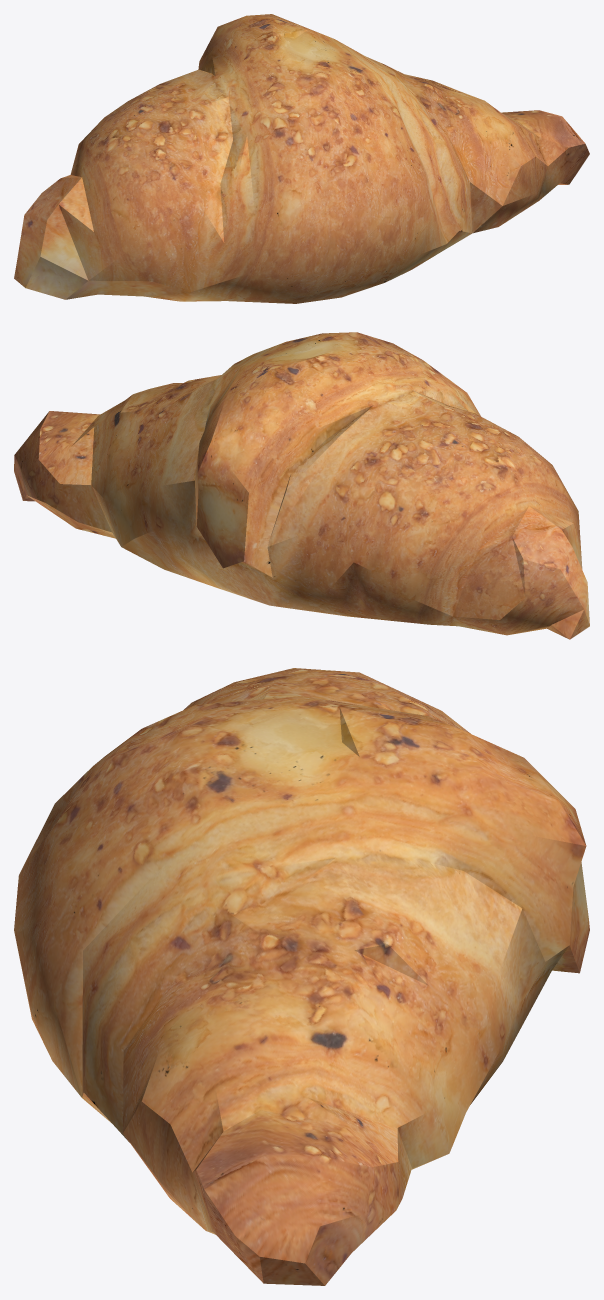
The model's file is 3DPastry001_LQ-2K-JPG.obj.
3 renders of one model, top to bottom at view 1: azimuth 30°, elevation 25°; view 2: azimuth 150°, elevation 25°; view 3: azimuth 270°, elevation 25°, orthographic. The views are drawn at different scales.
Visible parts, largest first — view 1: 3DPastry001_LQ-2K-JPG; view 2: 3DPastry001_LQ-2K-JPG; view 3: 3DPastry001_LQ-2K-JPG.
Boxes of the visible parts, box(x1,y1,x2,y2) form: 3DPastry001_LQ-2K-JPG: box(14, 14, 589, 303); 3DPastry001_LQ-2K-JPG: box(14, 332, 589, 639); 3DPastry001_LQ-2K-JPG: box(14, 668, 589, 1285).
Bounding box in the file's own units: 0.1231 × 0.0453 × 0.0657.
Materials: 1 (1 with a texture image).
